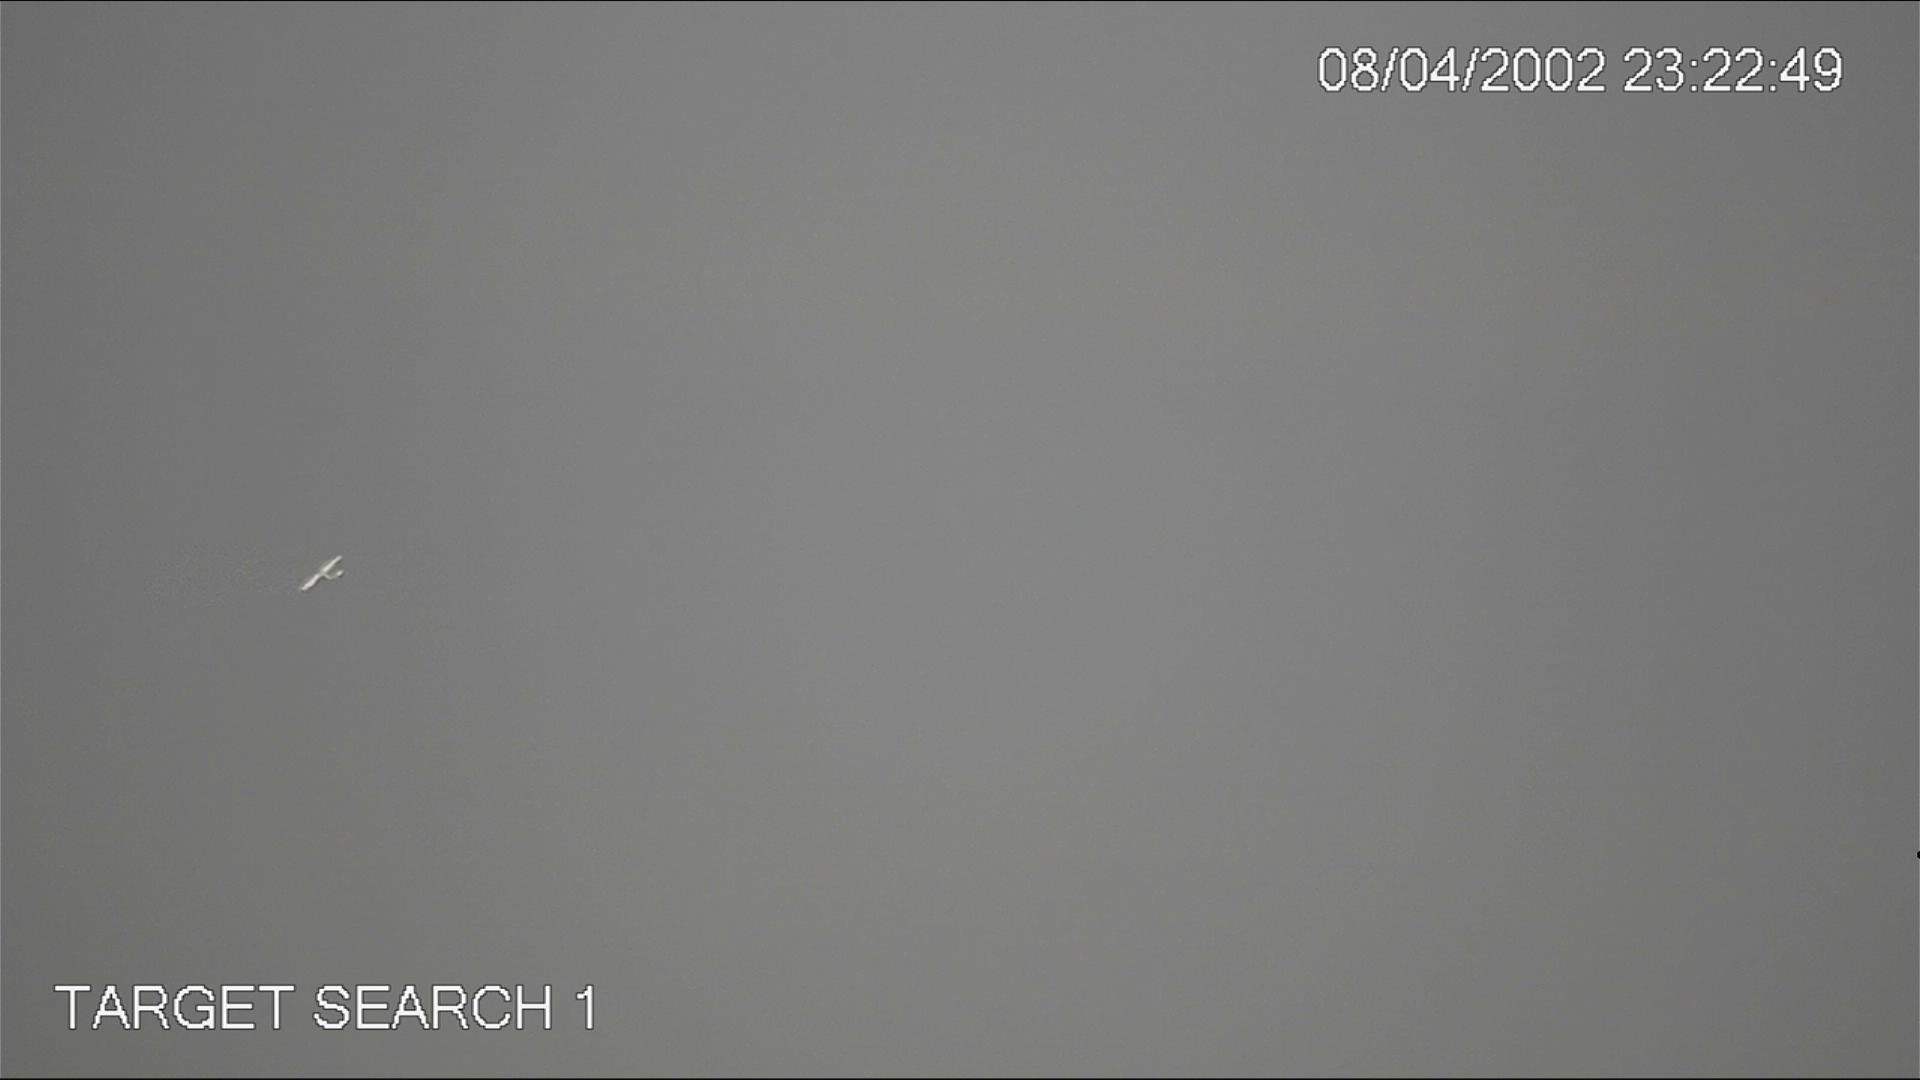SU_30: (290, 553, 353, 593)
